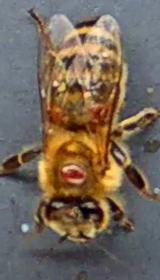varroa_mite: (53, 156, 95, 190), (43, 100, 73, 126), (86, 100, 112, 126)
